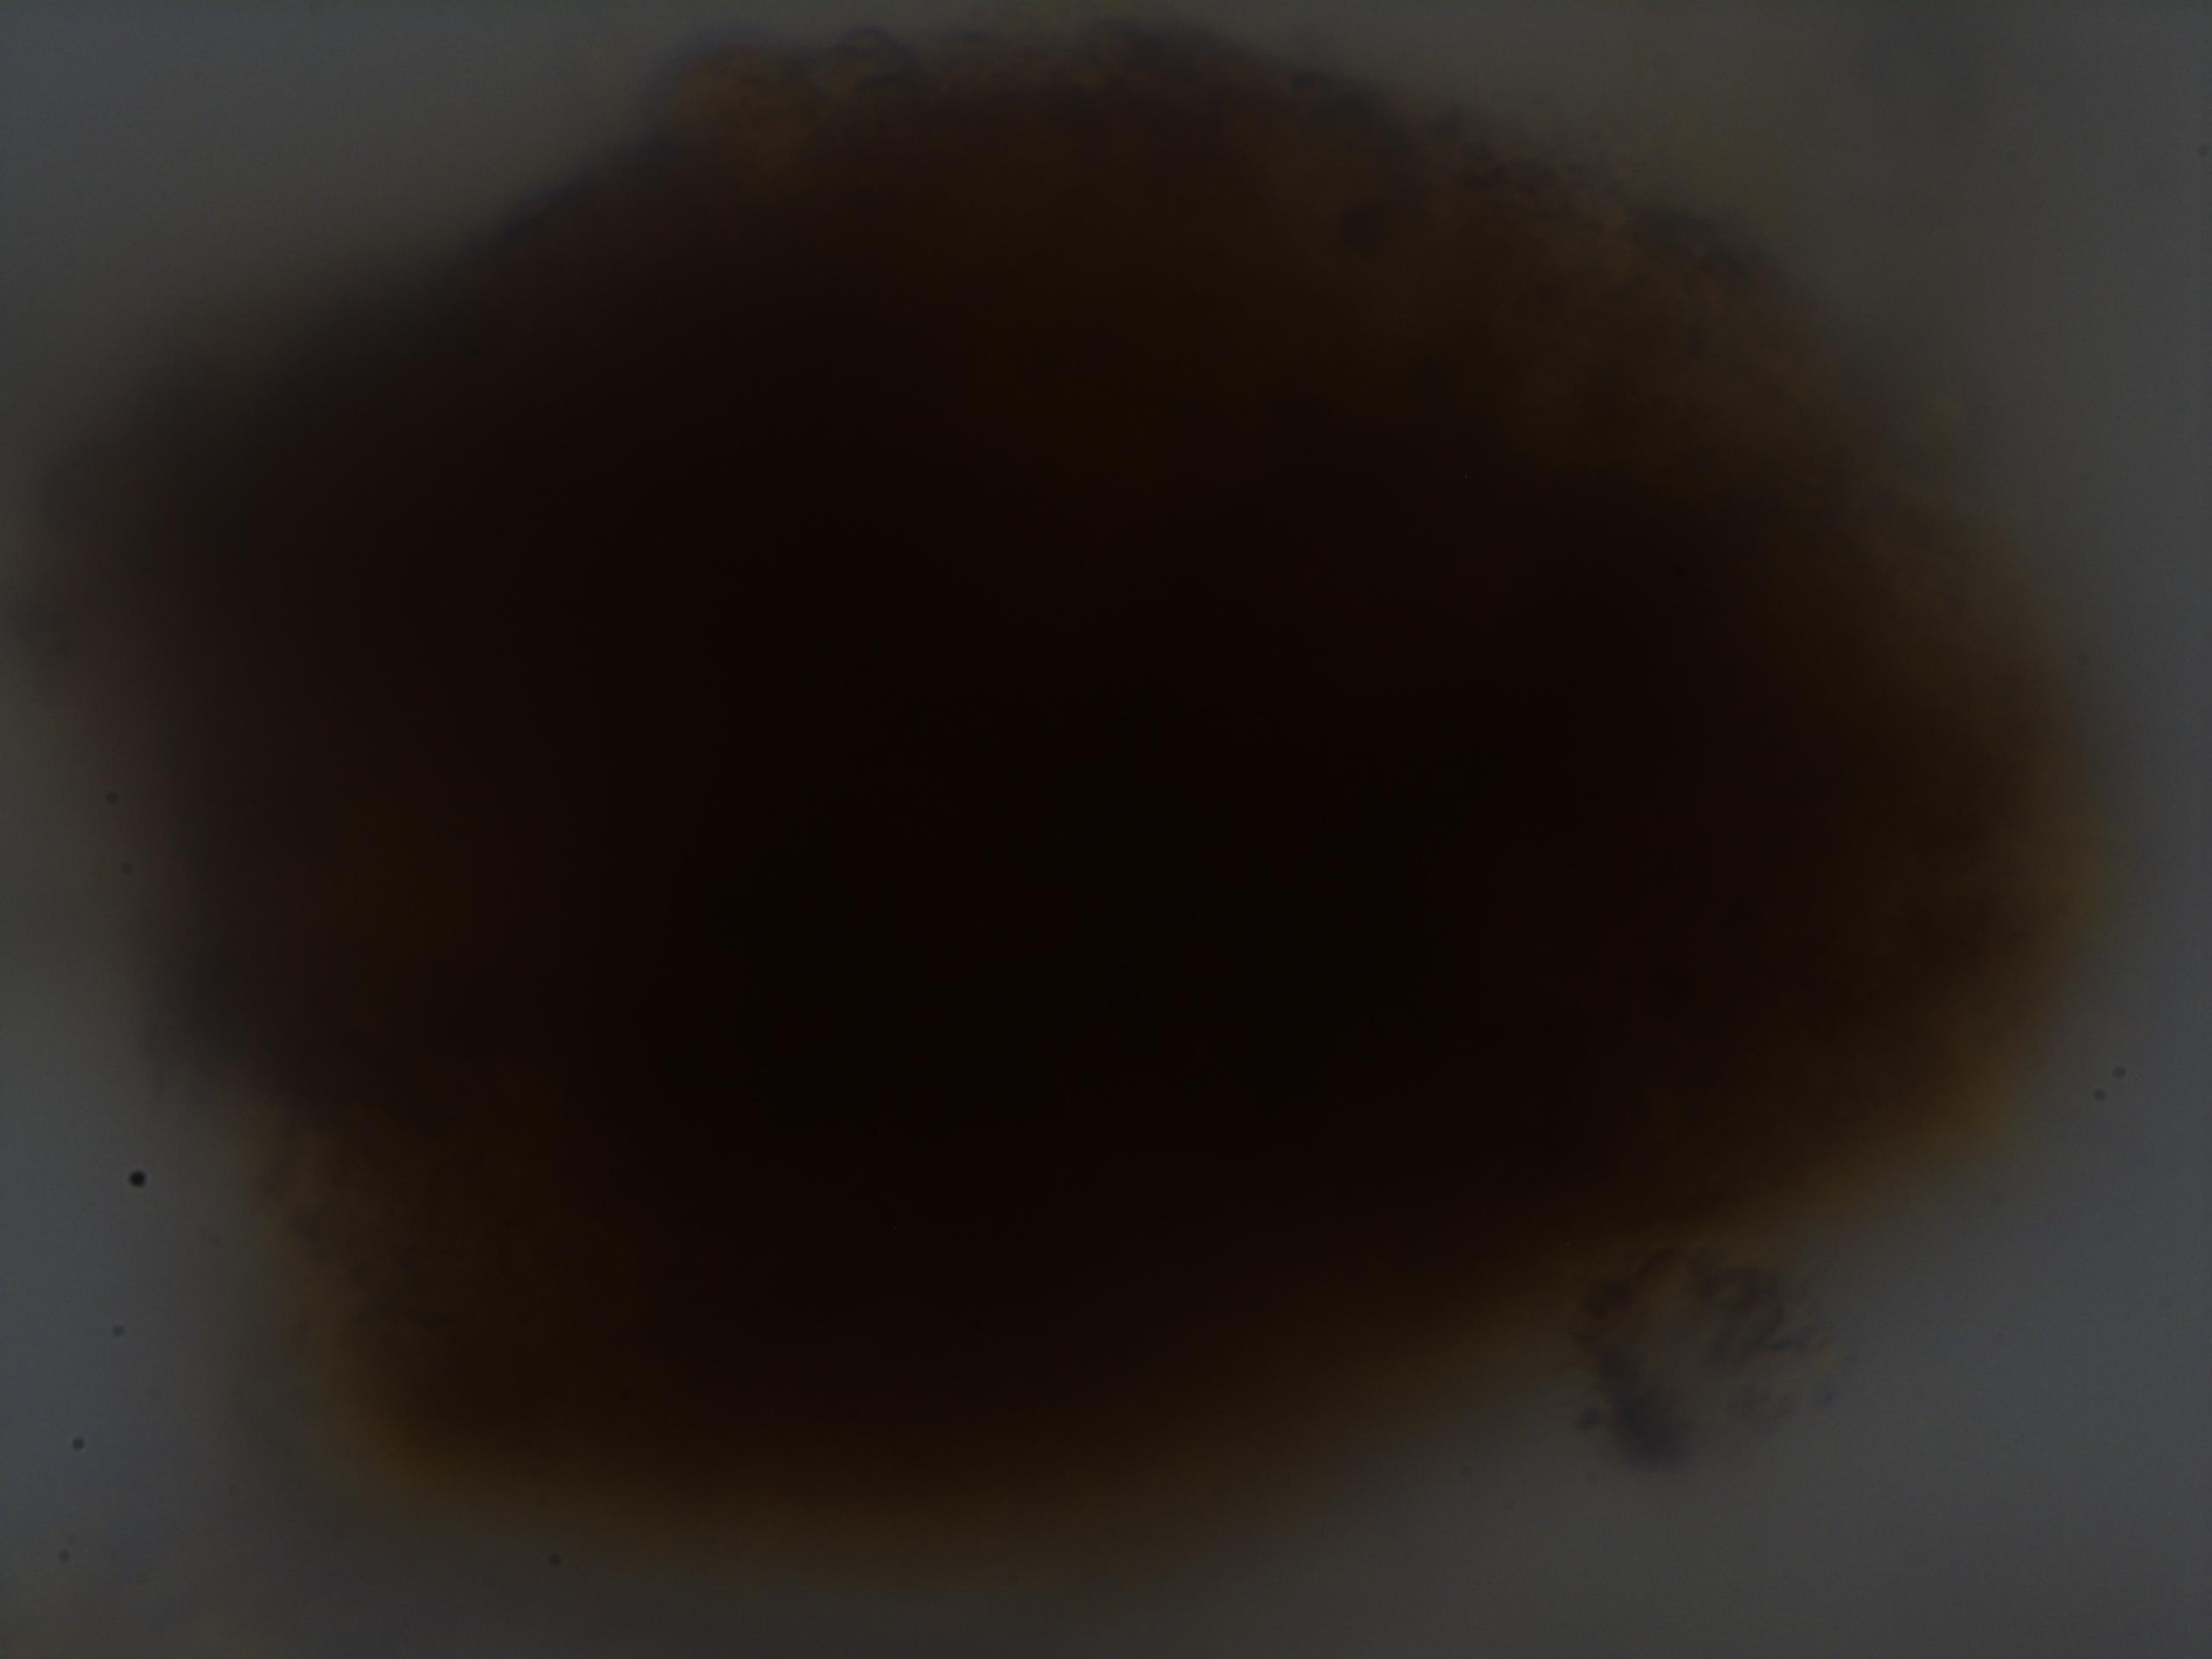spherical_floc: (0, 9, 2090, 1586)
